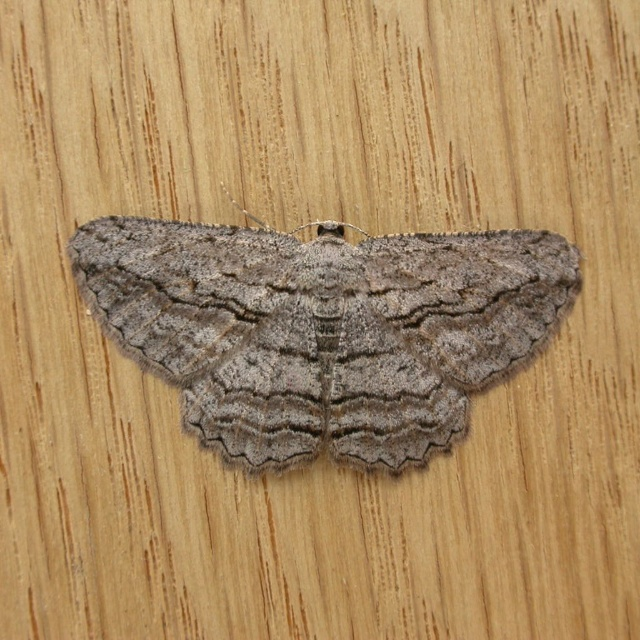Moths and butterflies: (63, 180, 588, 480)
